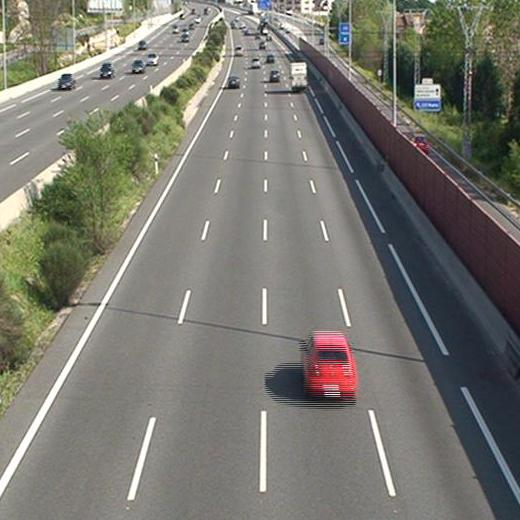car: (303, 332, 357, 396), (227, 77, 240, 88), (269, 70, 280, 80), (250, 57, 260, 68), (265, 54, 274, 65)
small-truck: (291, 61, 307, 90)
